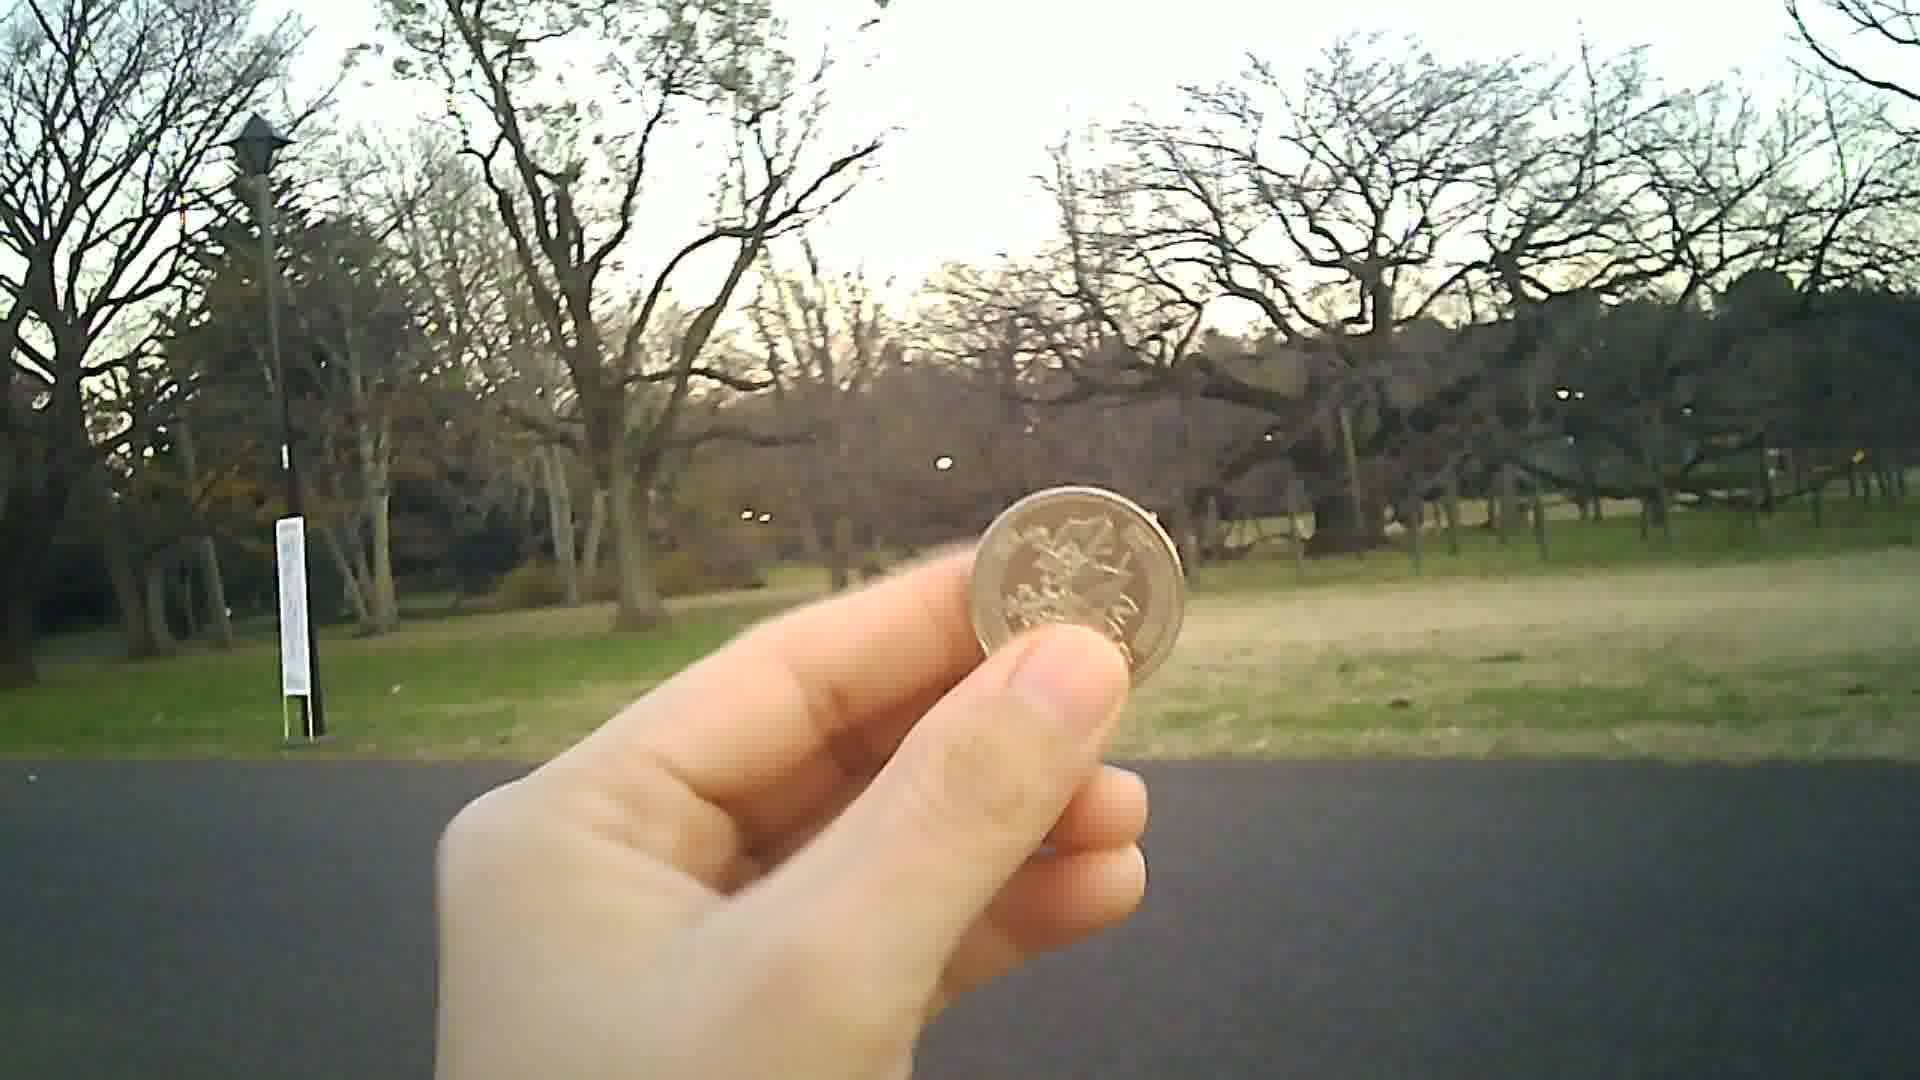500 Yen: (967, 487, 1184, 688)
